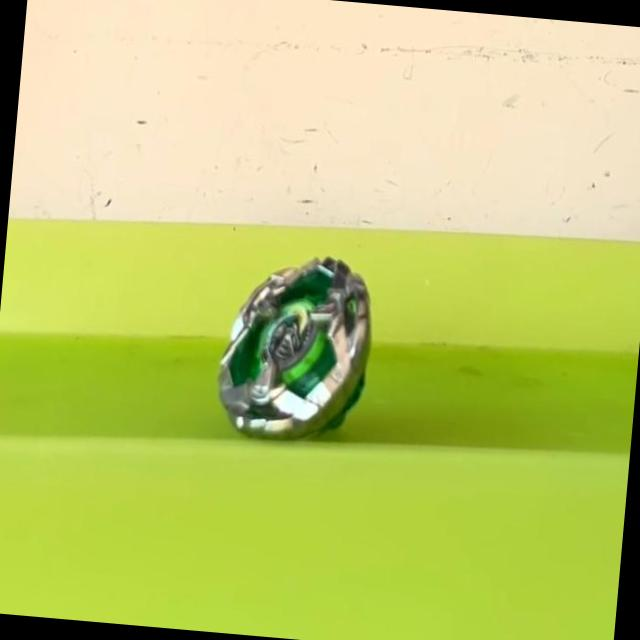Beyblade: (210, 244, 380, 452)
